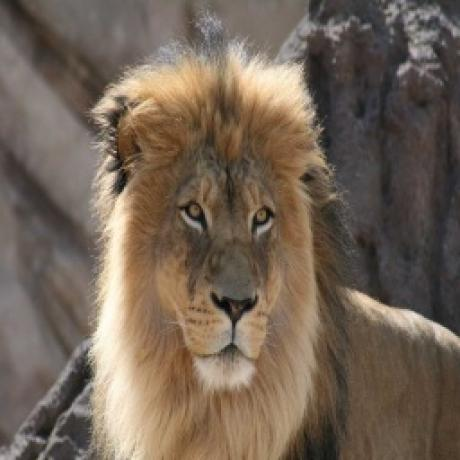Lion: (87, 44, 460, 460)
